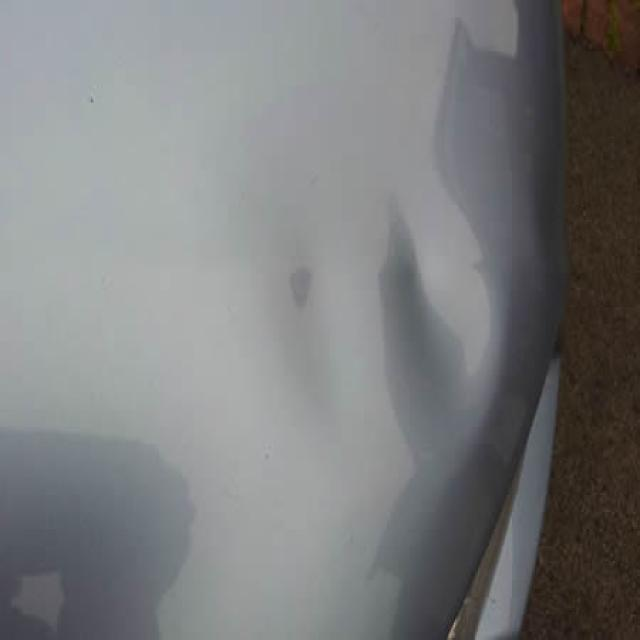Dent: (376, 206, 500, 448)
